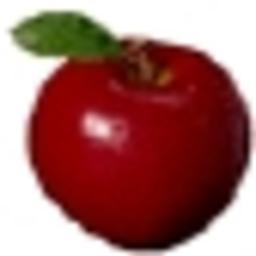apple: (27, 35, 253, 250)
